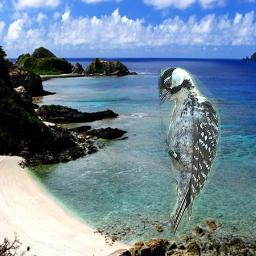Woodpecker: (158, 67, 221, 235)
